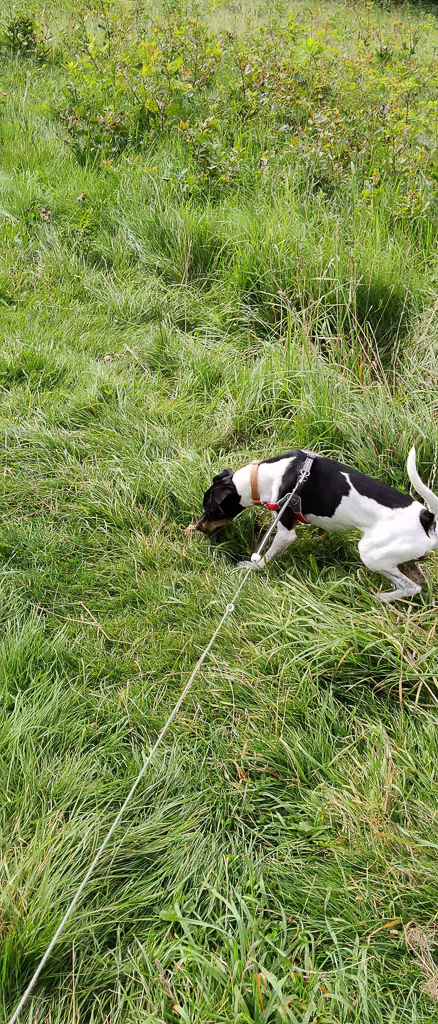Dog: (187, 419, 438, 623)
